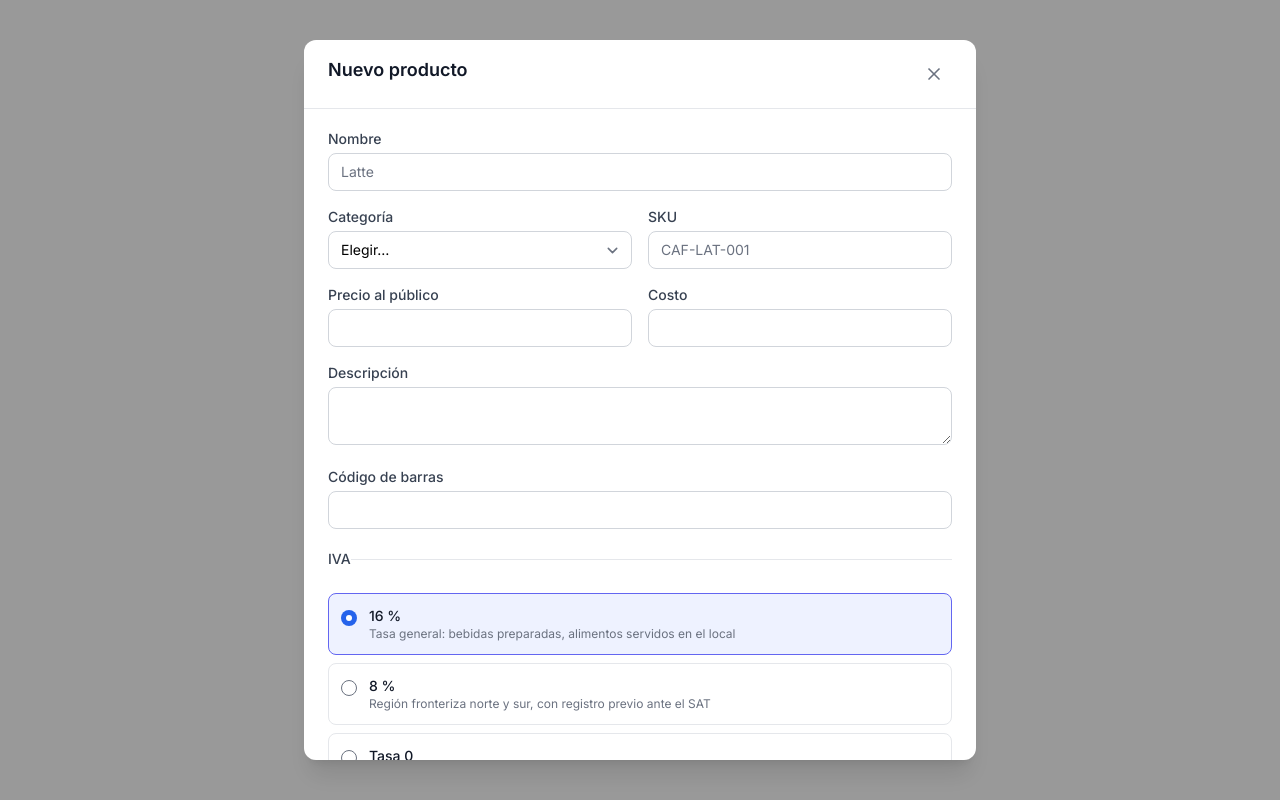
Test: ProductoModal › alta › ni si falta la categoría
In the field labelled "Nombre": {"x": 640, "y": 172} left=328, top=153, right=952, bottom=191, type "Algo"
(page scrolled)
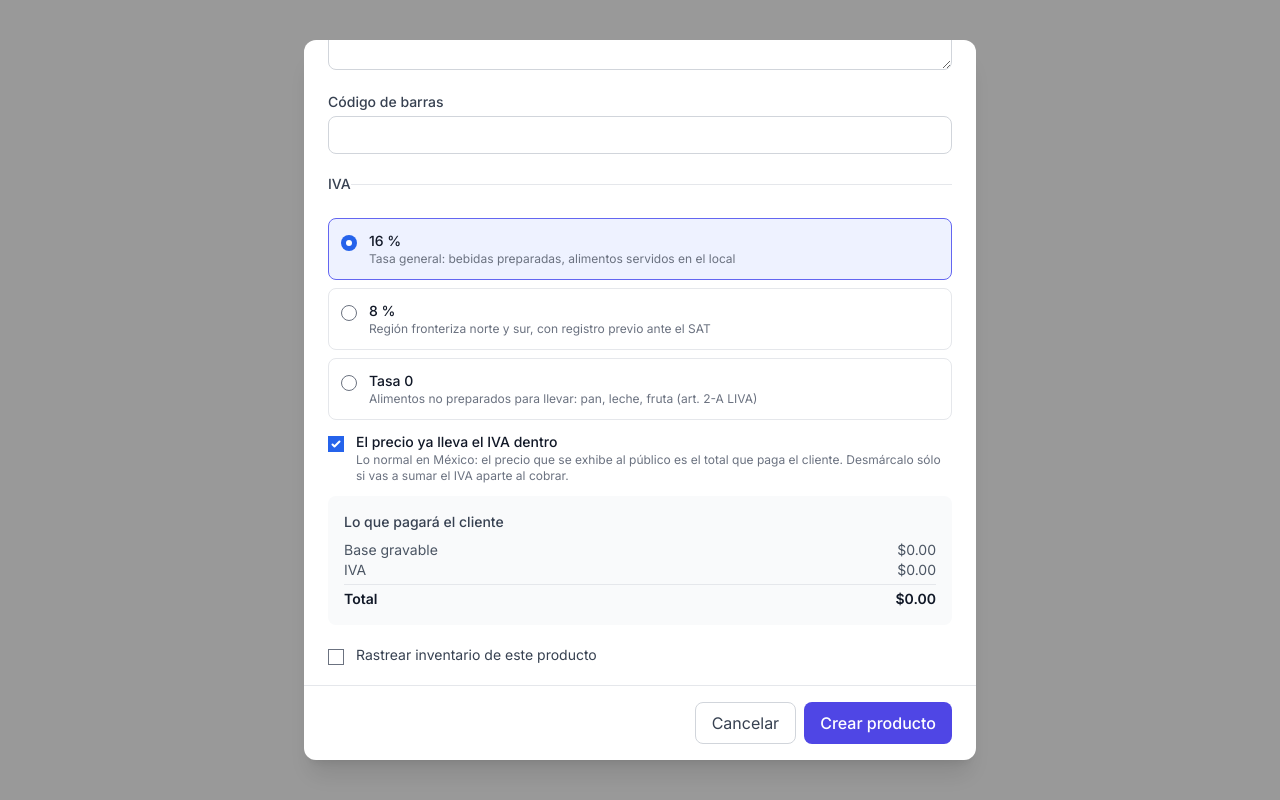
Click the button "Crear producto": {"x": 878, "y": 723} left=804, top=702, right=952, bottom=744
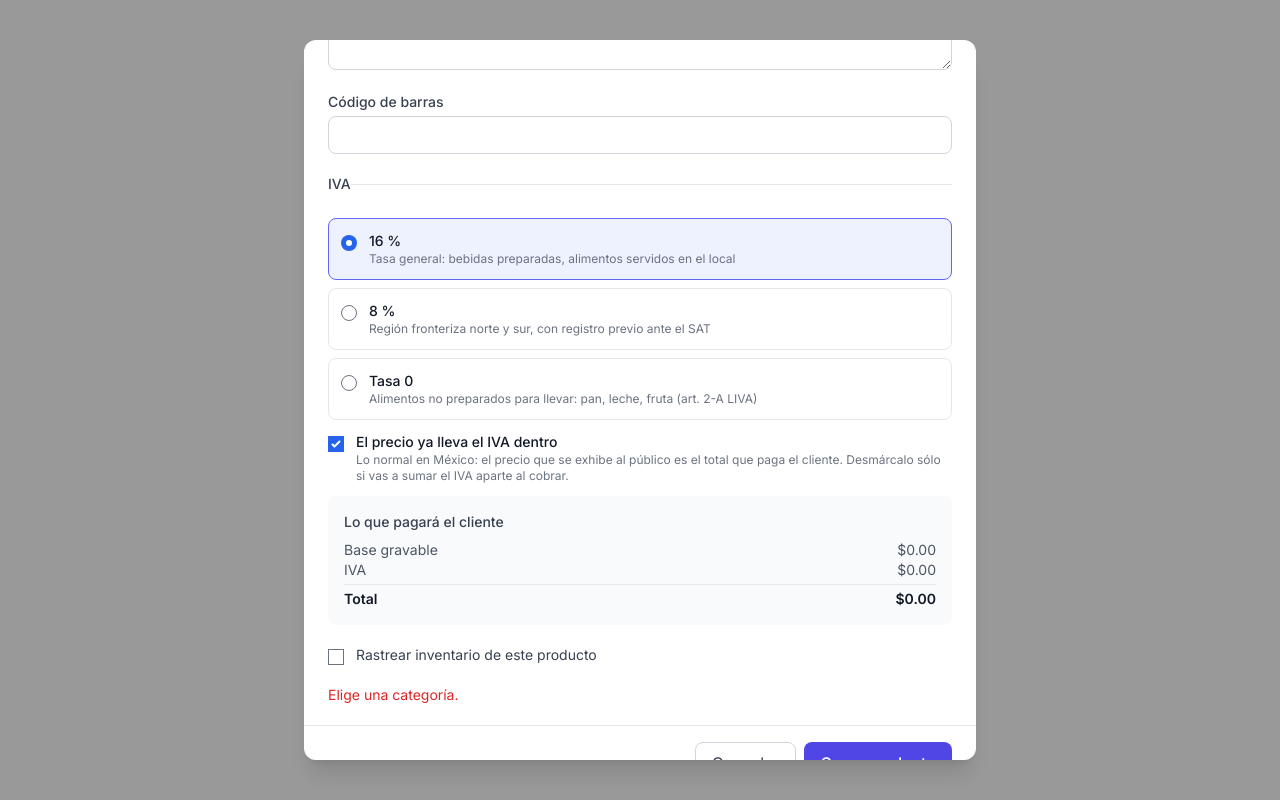
Result: the message shows "categoría" at left=328, top=686, right=458, bottom=703
